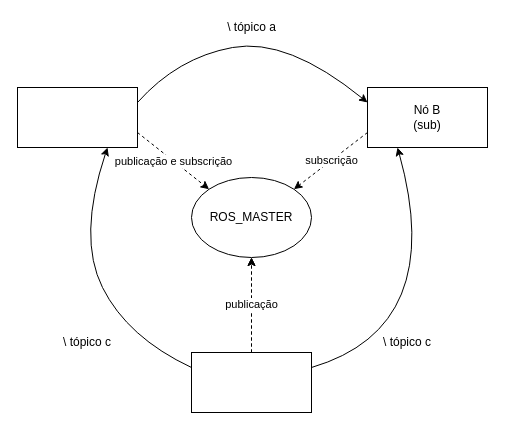
This 505x430 diagram has some shape labels left out. Here are the shapes that lost their labels. From the top down, the centre of each, then its label:
At (77,117): "Nó A (pub e sub)".
At (251,382): "Nó C (pub)".
